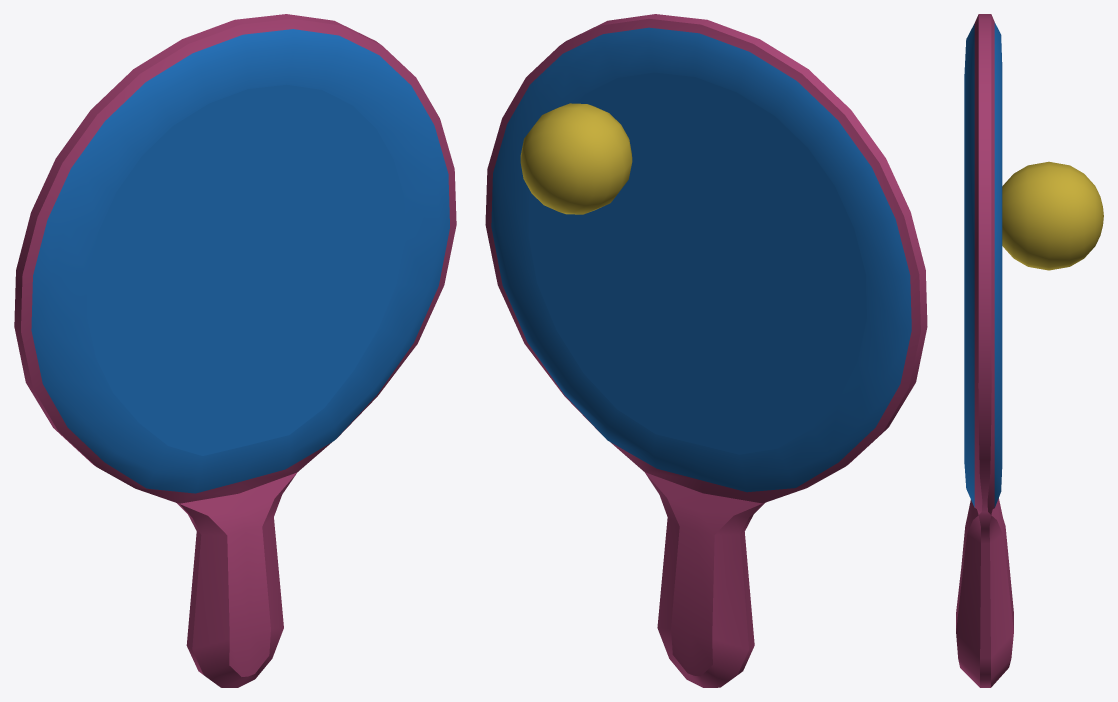
Rendered from Tennis racket.FBX.
3 views of the same model, side by side, from view 1: azimuth 30°, elevation 25°; view 2: azimuth 150°, elevation 25°; view 3: azimuth 270°, elevation 25° (orthographic). The views are drawn at different scales.
Visible parts, largest first — view 1: Tennis racket; view 2: Tennis racket; view 3: Tennis racket.
Part boxes in pixels (box(x1,y1,x2,y2)): Tennis racket: box(14, 14, 456, 687); Tennis racket: box(485, 14, 927, 687); Tennis racket: box(956, 14, 1103, 687).
Size of the model in its own units: 718 by 216 by 1045.
